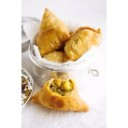samosa: (38, 6, 70, 51), (67, 26, 102, 60)
